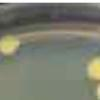yellow: (0, 34, 21, 57), (86, 56, 100, 80), (95, 82, 100, 100)
